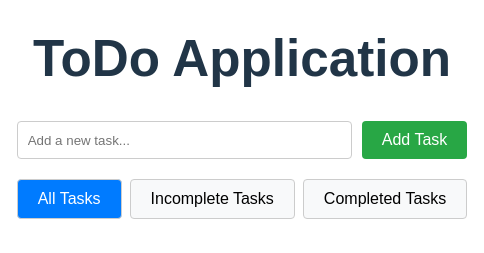
ToDo Application › shows no tasks in the "Incomplete Tasks" tab when all tasks are completed
The image size is (484, 253).
Type "Task 1" into the field with placeholder "Add a new task...".
click(184, 140); type("Task 1")  # box [17, 122, 352, 160]
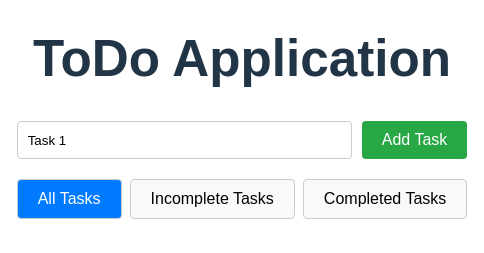
Click the button "Add Task".
click(415, 140)  # box [362, 122, 467, 160]
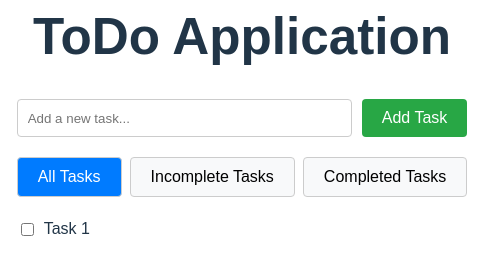
Click the checkbox.
click(27, 230)  # box [21, 223, 34, 236]
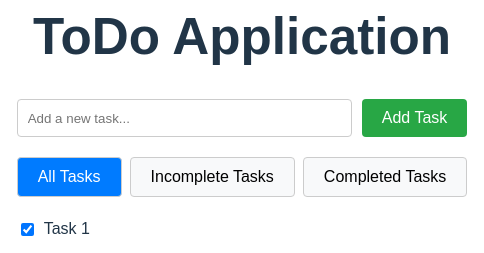
Click the button "Incomplete Tasks".
click(212, 178)  # box [130, 158, 295, 198]
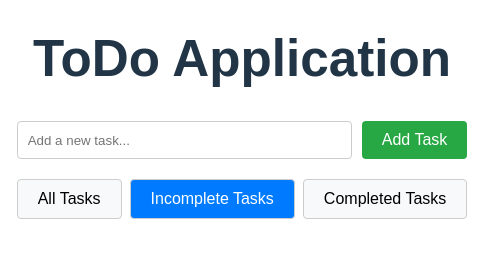
Expected: the list item "Task 1" is gone
